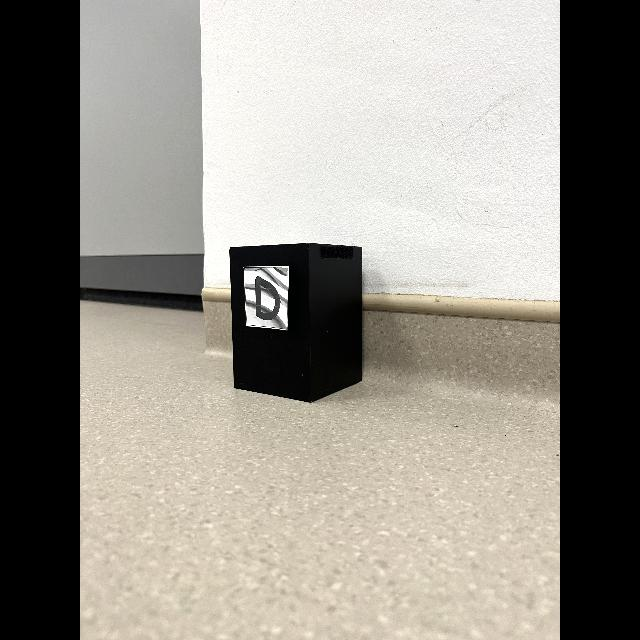D: (255, 276, 280, 320)
